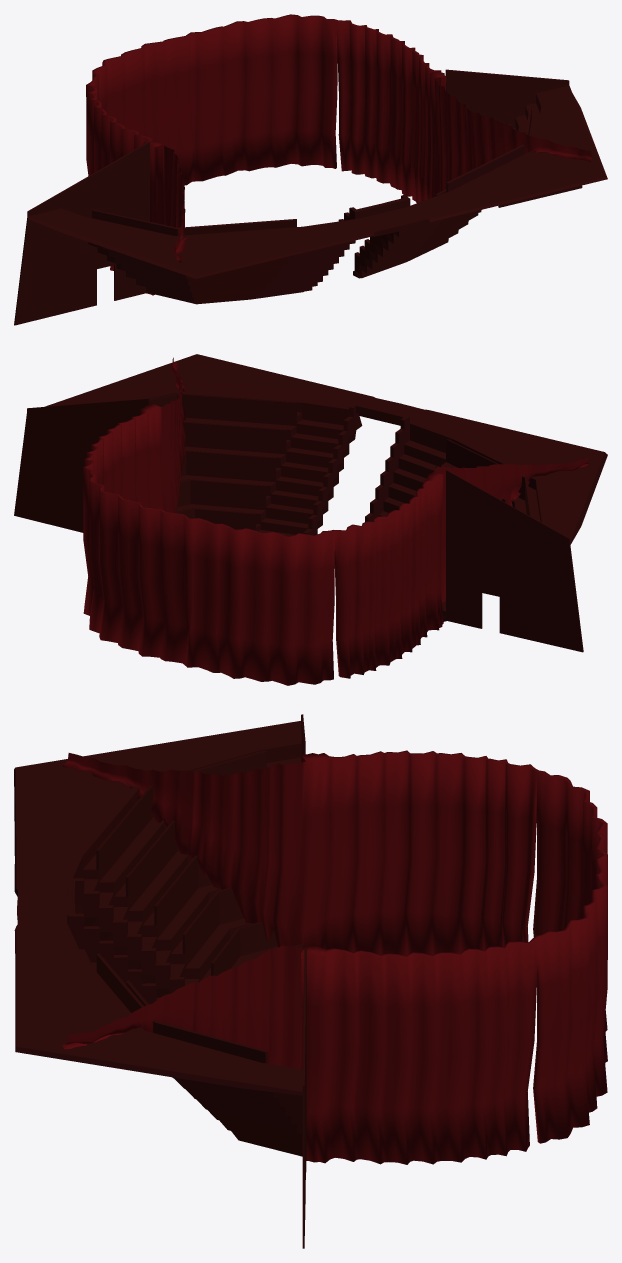
Rendered from verho ja portaat.fbx.
3 views of the same model, one above another, from view 1: azimuth 30°, elevation 25°; view 2: azimuth 150°, elevation 25°; view 3: azimuth 270°, elevation 25° (orthographic). The views are drawn at different scales.
Parts seen in each view (by area): view 1: verho, portaat; view 2: portaat, verho; view 3: verho, portaat.
Part boxes in pixels (x1,y1,x2,y2): verho: (86,14,591,295); portaat: (14,69,607,325); portaat: (14,354,607,652); verho: (83,357,588,685); verho: (62,750,607,1164); portaat: (14,714,306,1248).
Bounding box in the file's own units: 57.64 × 15.04 × 37.37.
